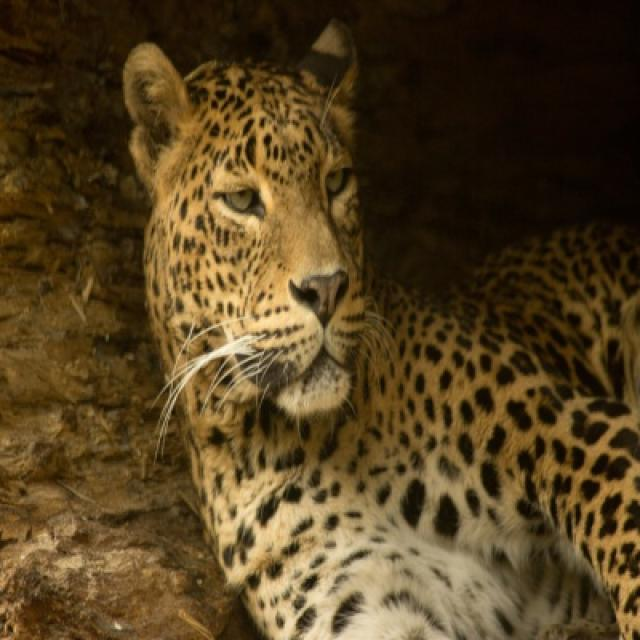Jaguar: (122, 29, 638, 638)
